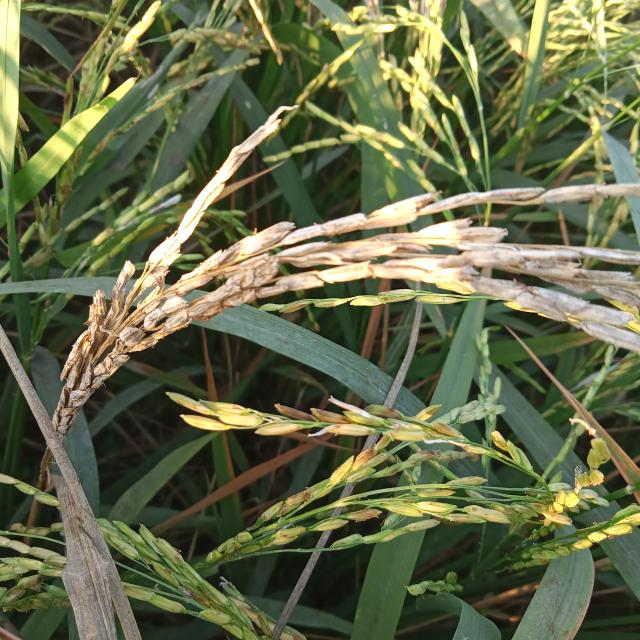Neck_Blast: (55, 183, 640, 445)
